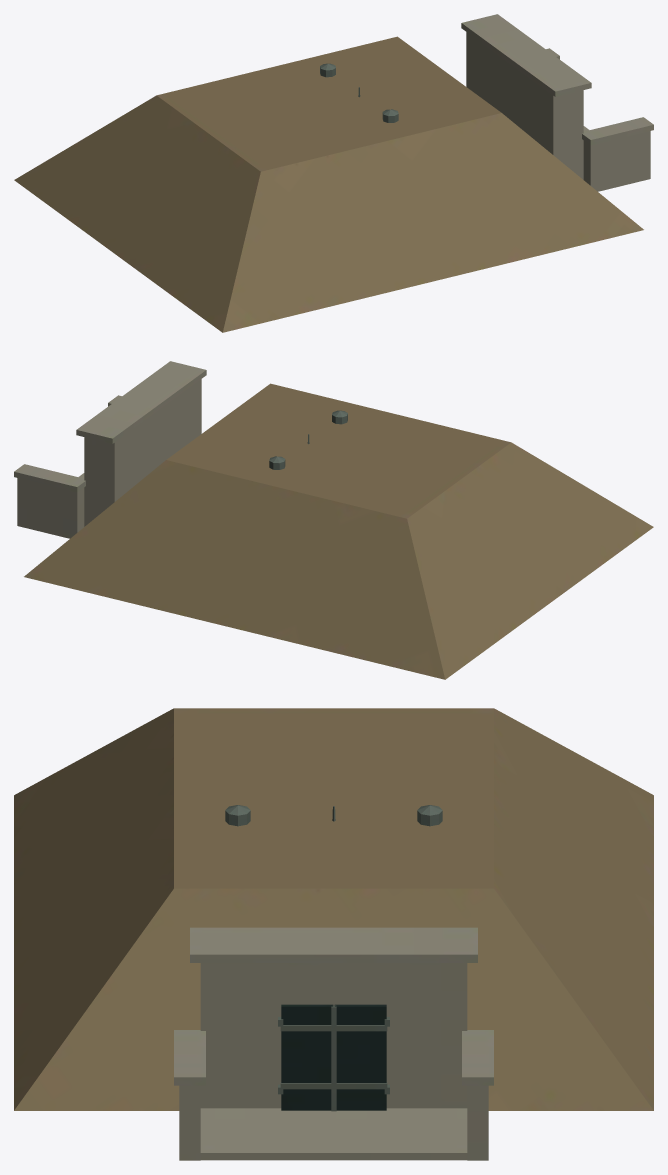
File: ammunition-bunker.glb
The picture shows the model from 3 angles, top to bottom: view 1: azimuth 30°, elevation 25°; view 2: azimuth 150°, elevation 25°; view 3: azimuth 270°, elevation 25°; orthographic projection. The views are drawn at different scales.
Visible parts, largest first — view 1: ammunition-bunker_concrete; view 2: ammunition-bunker_concrete; view 3: ammunition-bunker_concrete.
Part boxes in pixels (bbox=[...]): ammunition-bunker_concrete: bbox=[14, 14, 653, 332]; ammunition-bunker_concrete: bbox=[14, 361, 653, 679]; ammunition-bunker_concrete: bbox=[14, 708, 653, 1160].
Bounding box in the file's own units: 16.05 × 3.62 × 12.
Materials: 1 (1 with a texture image).
